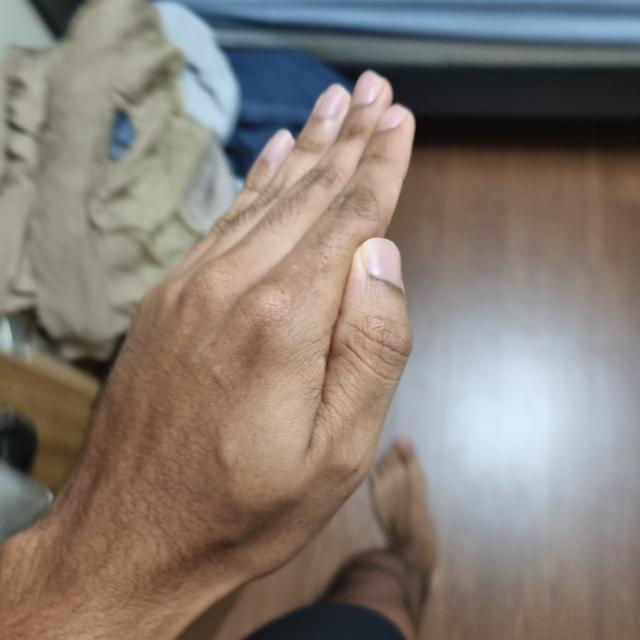Paper: (64, 79, 413, 586)
